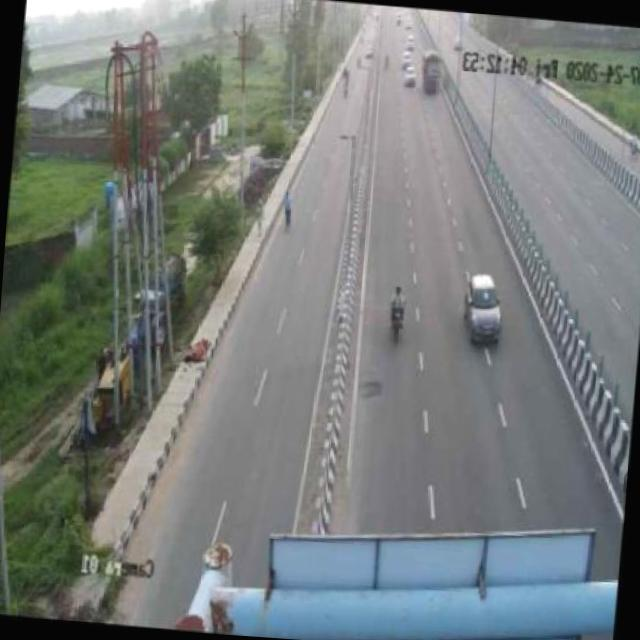car: (457, 264, 518, 354)
